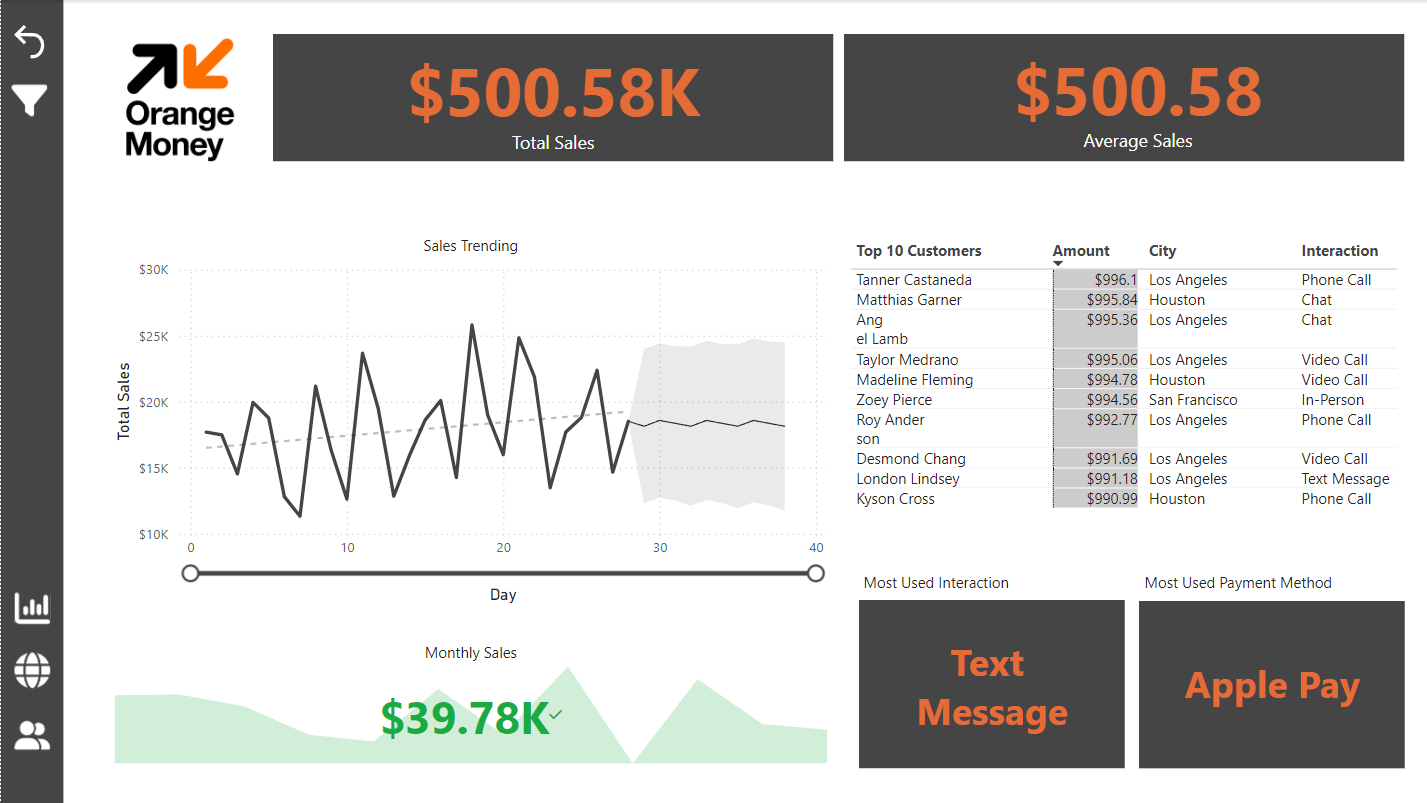

This screenshot's page, from the dashboard's own definition file:
{"tool":"powerbi","page":{"name":"Exec Dashboard","canvas":[1280,720],"ordinal":0},"visuals":[{"type":"shape","box":[0,0,55.9,720.3],"z":0},{"type":"image","box":[55.8,0,210.2,178.9],"z":1000},{"type":"actionButton","box":[8.1,524.6,40,40],"z":1000,"group":"g1"},{"type":"shape","box":[243.2,30.6,501.7,114],"z":2000},{"type":"actionButton","box":[8.1,580,40,40],"z":2000,"group":"g1"},{"type":"card","fields":{"Values":["Meausre Table.Total Sales"]},"box":[355.8,38.9,278,100.1],"z":3000},{"type":"actionButton","box":[8.3,638.3,40,40],"z":3000,"group":"g1"},{"type":"shape","box":[754.7,30.6,501.7,114],"z":4000},{"type":"kpi","title":"Monthly Sales","fields":{"Indicator":["Meausre Table.Total Sales"],"Goal":["Meausre Table.Previous Month Sales"],"TrendLine":["dim_date.Start of Month"]},"box":[96.4,575,648.1,113.8],"z":5000},{"type":"card","fields":{"Values":["Meausre Table.Average Sales"]},"box":[879.3,33.7,277.6,106.9],"z":6000},{"type":"lineChart","title":"Sales Trending","fields":{"Y":["Meausre Table.Total Sales"],"Category":["dim_date.full_date.Variation.Date Hierarchy.Year","dim_date.full_date.Variation.Date Hierarchy.Quarter","dim_date.full_date.Variation.Date Hierarchy.Month","dim_date.full_date.Variation.Date Hierarchy.Day"]},"box":[96.4,210.2,648.1,334.5],"z":7000},{"type":"tableEx","fields":{"Values":["dim_customer.full name","Meausre Table.Total Sales","dim_customer_address.city","dim_interaction_type.type_name"]},"box":[755,210.2,501.8,255.5],"z":8000},{"type":"shape","box":[768.2,537.7,238.4,150.6],"z":9000},{"type":"shape","box":[1018.7,537.8,238.1,149.8],"z":10000},{"type":"card","fields":{"Values":["Min(dim_interaction_type.type_name)"]},"box":[785.2,537.8,204.4,142.9],"z":11000},{"type":"card","fields":{"Values":["Min(dim_payment_method.method_name)"]},"box":[1036.1,541.3,204.4,142.9],"z":12000},{"type":"textbox","box":[767.8,507.6,221.9,37.2],"z":13000},{"type":"textbox","box":[1018.7,507.6,221.9,37.2],"z":14000},{"type":"group","id":"g1","title":"Navigation Buttons","box":[8.1,524.6,40.1,153.6],"z":15000},{"type":"actionButton","box":[5,17.1,45.4,40.3],"z":16000},{"type":"actionButton","box":[5,69.5,46.4,40.3],"z":17000}]}

Visuals, with their boxes on the page's 1280x720 design canvas (x1, y1, x2, y2). These are canvas units, not pixel positions in the 1427x803 screenshot, which may show the page scaled, cropped or inside an application window:
shape: {"x1": 0, "y1": 0, "x2": 56, "y2": 720}
image: {"x1": 56, "y1": 0, "x2": 266, "y2": 179}
actionButton: {"x1": 8, "y1": 525, "x2": 48, "y2": 565}
shape: {"x1": 243, "y1": 31, "x2": 745, "y2": 145}
actionButton: {"x1": 8, "y1": 580, "x2": 48, "y2": 620}
card - Meausre Table.Total Sales: {"x1": 356, "y1": 39, "x2": 634, "y2": 139}
actionButton: {"x1": 8, "y1": 638, "x2": 48, "y2": 678}
shape: {"x1": 755, "y1": 31, "x2": 1256, "y2": 145}
"Monthly Sales" kpi: {"x1": 96, "y1": 575, "x2": 744, "y2": 689}
card - Meausre Table.Average Sales: {"x1": 879, "y1": 34, "x2": 1157, "y2": 141}
"Sales Trending" lineChart: {"x1": 96, "y1": 210, "x2": 744, "y2": 545}
tableEx - dim_customer.full name x Meausre Table.Total Sales: {"x1": 755, "y1": 210, "x2": 1257, "y2": 466}
shape: {"x1": 768, "y1": 538, "x2": 1007, "y2": 688}
shape: {"x1": 1019, "y1": 538, "x2": 1257, "y2": 688}
card - Min(dim_interaction_type.type_name): {"x1": 785, "y1": 538, "x2": 990, "y2": 681}
card - Min(dim_payment_method.method_name): {"x1": 1036, "y1": 541, "x2": 1240, "y2": 684}
textbox: {"x1": 768, "y1": 508, "x2": 990, "y2": 545}
textbox: {"x1": 1019, "y1": 508, "x2": 1241, "y2": 545}
"Navigation Buttons" group: {"x1": 8, "y1": 525, "x2": 48, "y2": 678}
actionButton: {"x1": 5, "y1": 17, "x2": 50, "y2": 57}
actionButton: {"x1": 5, "y1": 70, "x2": 51, "y2": 110}
